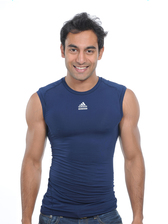clothoes: (32, 76, 137, 216)
